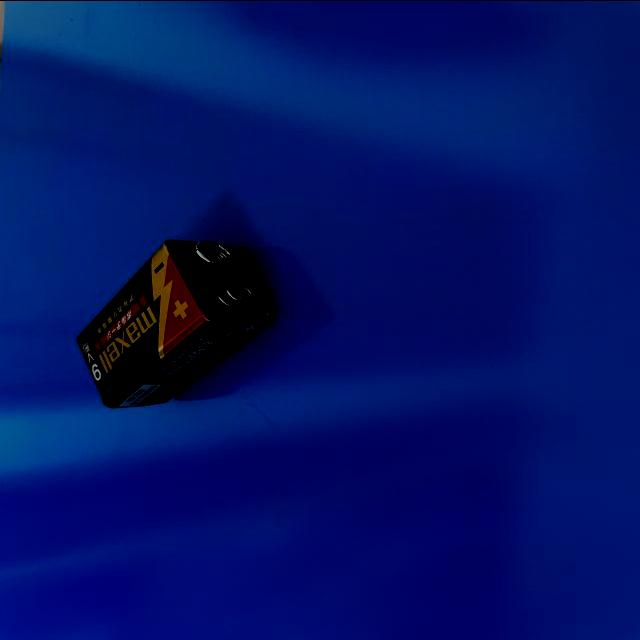9V: (76, 238, 272, 408)
